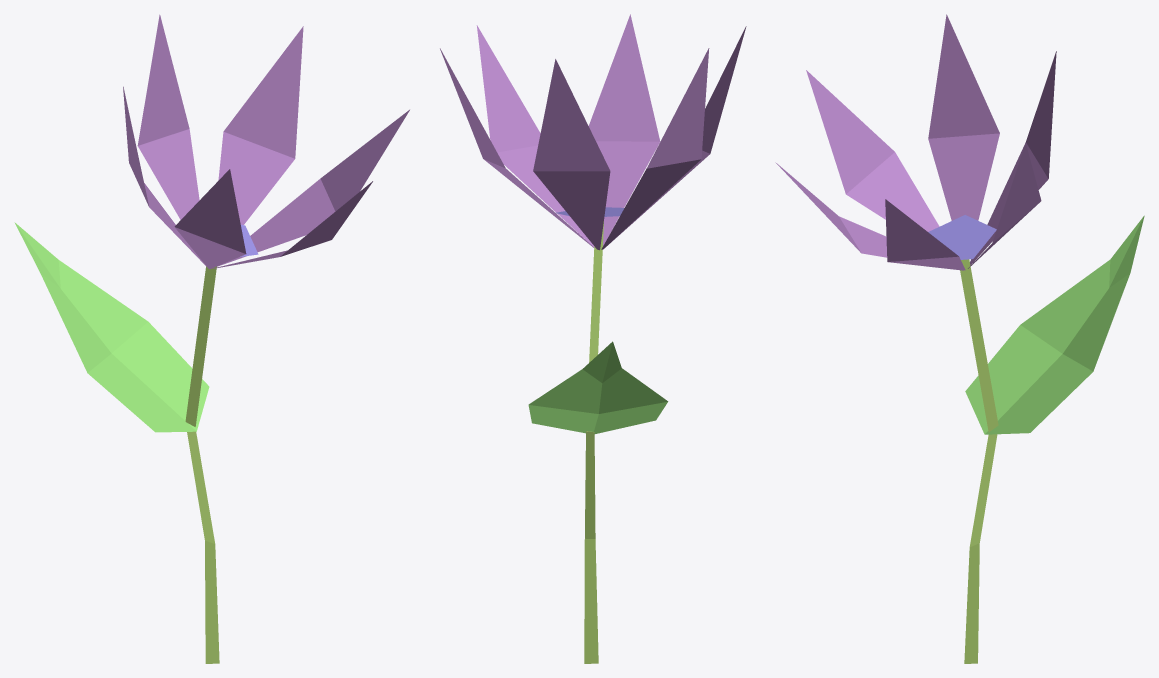
The model's file is Flower_b_TwoS_06.fbx.
3 renders of one model, left to right at view 1: azimuth 30°, elevation 25°; view 2: azimuth 150°, elevation 25°; view 3: azimuth 270°, elevation 25°, orthographic. The views are drawn at different scales.
Visible parts, largest first — view 1: Flower_b_TwoS_06; view 2: Flower_b_TwoS_06; view 3: Flower_b_TwoS_06.
Boxes of the visible parts, box(x1,y1,x2,y2) form: Flower_b_TwoS_06: box(14, 14, 409, 663); Flower_b_TwoS_06: box(440, 14, 746, 663); Flower_b_TwoS_06: box(775, 14, 1144, 663).
Size of the model in its own units: 20.8 by 46.56 by 25.68.
